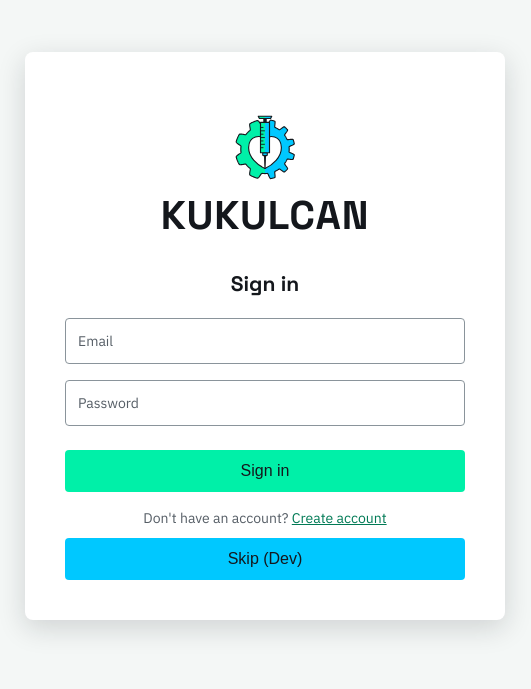
Test: Login › negative › wrong credentials show the invalid-credentials message and no resend button
The image size is (531, 689).
Type "a@b.c" into the field with placeholder "Email".
click(265, 341); type("a@b.c")  # box [65,318,465,364]
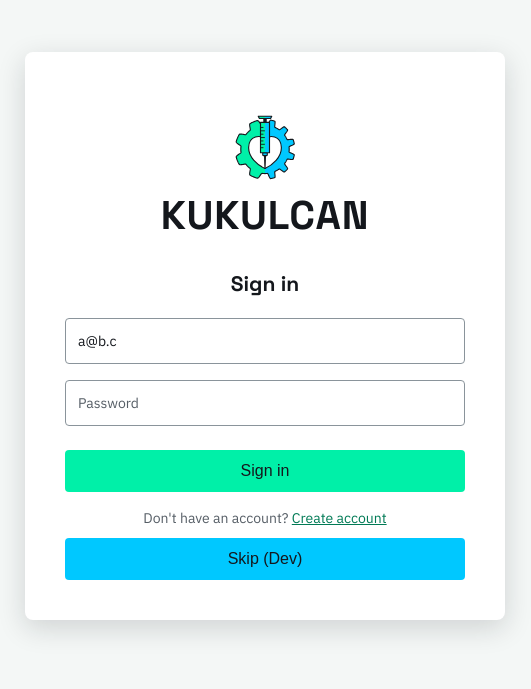
Type "bad" into the password field with placeholder "Password".
click(265, 403); type("bad")  # box [65,380,465,426]
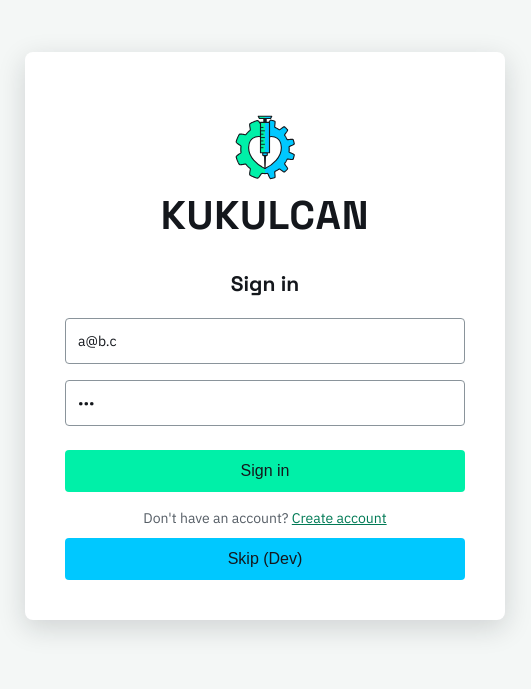
Click the button "Sign in".
click(265, 471)  # box [65,450,465,492]
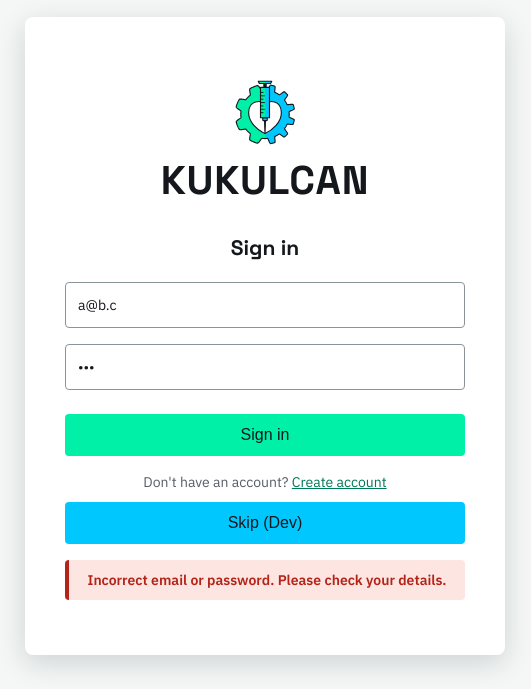
expect the text "Incorrect email or password. Please check your details." is shown: met, box [65,560,465,600]
